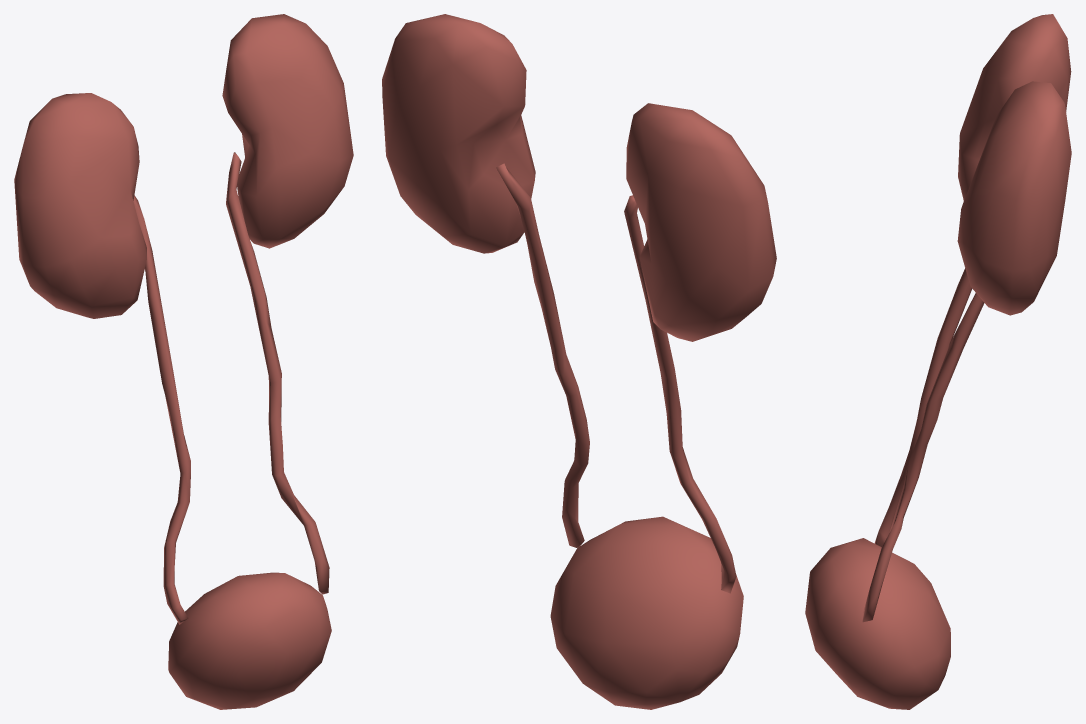
The model's file is pediatric_child_10y_female.urinary.LOD2.glb.
The picture shows the model from 3 angles, left to right: view 1: azimuth 30°, elevation 25°; view 2: azimuth 150°, elevation 25°; view 3: azimuth 270°, elevation 25°; orthographic projection. The views are drawn at different scales.
Parts seen in each view (by area): view 1: PEDIATRIC.CHILD_10Y.FEMALE.URINARY.KIDNEY_CORTEX.R, PEDIATRIC.CHILD_10Y.FEMALE.URINARY.KIDNEY_CORTEX.L, PEDIATRIC.CHILD_10Y.FEMALE.URINARY.URINARY_BLADDER_WALL, PEDIATRIC.CHILD_10Y.FEMALE.URINARY.URETER.L, PEDIATRIC.CHILD_10Y.FEMALE.URINARY.URETER.R; view 2: PEDIATRIC.CHILD_10Y.FEMALE.URINARY.KIDNEY_CORTEX.L, PEDIATRIC.CHILD_10Y.FEMALE.URINARY.URINARY_BLADDER_WALL, PEDIATRIC.CHILD_10Y.FEMALE.URINARY.KIDNEY_CORTEX.R, PEDIATRIC.CHILD_10Y.FEMALE.URINARY.URETER.L, PEDIATRIC.CHILD_10Y.FEMALE.URINARY.URETER.R; view 3: PEDIATRIC.CHILD_10Y.FEMALE.URINARY.KIDNEY_CORTEX.L, PEDIATRIC.CHILD_10Y.FEMALE.URINARY.URINARY_BLADDER_WALL, PEDIATRIC.CHILD_10Y.FEMALE.URINARY.KIDNEY_CORTEX.R, PEDIATRIC.CHILD_10Y.FEMALE.URINARY.URETER.L, PEDIATRIC.CHILD_10Y.FEMALE.URINARY.URETER.R.
Part boxes in pixels (x1=…): PEDIATRIC.CHILD_10Y.FEMALE.URINARY.KIDNEY_CORTEX.R: x1=14, y1=93, x2=146, y2=318; PEDIATRIC.CHILD_10Y.FEMALE.URINARY.KIDNEY_CORTEX.L: x1=222, y1=14, x2=353, y2=248; PEDIATRIC.CHILD_10Y.FEMALE.URINARY.URINARY_BLADDER_WALL: x1=168, y1=572, x2=331, y2=709; PEDIATRIC.CHILD_10Y.FEMALE.URINARY.URETER.L: x1=226, y1=152, x2=329, y2=594; PEDIATRIC.CHILD_10Y.FEMALE.URINARY.URETER.R: x1=133, y1=195, x2=190, y2=624; PEDIATRIC.CHILD_10Y.FEMALE.URINARY.KIDNEY_CORTEX.L: x1=382, y1=14, x2=535, y2=253; PEDIATRIC.CHILD_10Y.FEMALE.URINARY.URINARY_BLADDER_WALL: x1=550, y1=516, x2=743, y2=709; PEDIATRIC.CHILD_10Y.FEMALE.URINARY.KIDNEY_CORTEX.R: x1=626, y1=103, x2=776, y2=341; PEDIATRIC.CHILD_10Y.FEMALE.URINARY.URETER.L: x1=496, y1=163, x2=589, y2=547; PEDIATRIC.CHILD_10Y.FEMALE.URINARY.URETER.R: x1=624, y1=195, x2=736, y2=593; PEDIATRIC.CHILD_10Y.FEMALE.URINARY.KIDNEY_CORTEX.L: x1=957, y1=81, x2=1071, y2=315; PEDIATRIC.CHILD_10Y.FEMALE.URINARY.URINARY_BLADDER_WALL: x1=805, y1=538, x2=950, y2=709; PEDIATRIC.CHILD_10Y.FEMALE.URINARY.KIDNEY_CORTEX.R: x1=958, y1=14, x2=1071, y2=200; PEDIATRIC.CHILD_10Y.FEMALE.URINARY.URETER.L: x1=862, y1=293, x2=984, y2=622; PEDIATRIC.CHILD_10Y.FEMALE.URINARY.URETER.R: x1=874, y1=268, x2=972, y2=546.
Bounding box in the file's own units: 0.1563 × 0.2801 × 0.103.
